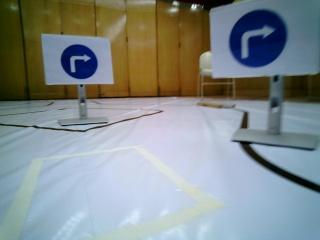right: (215, 5, 317, 73), (41, 35, 115, 84)
